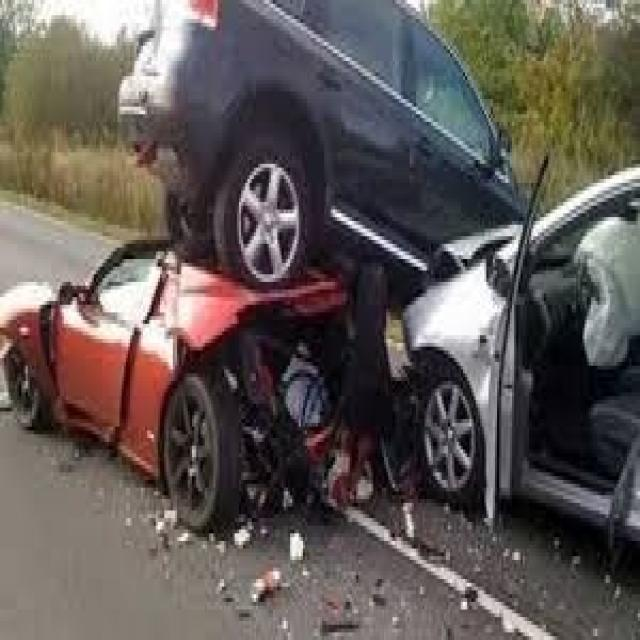accident: (0, 193, 525, 538)
